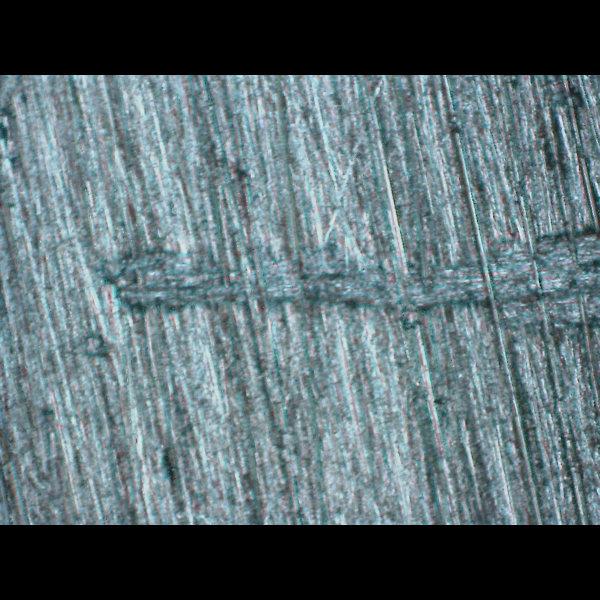d: (102, 220, 600, 333)
